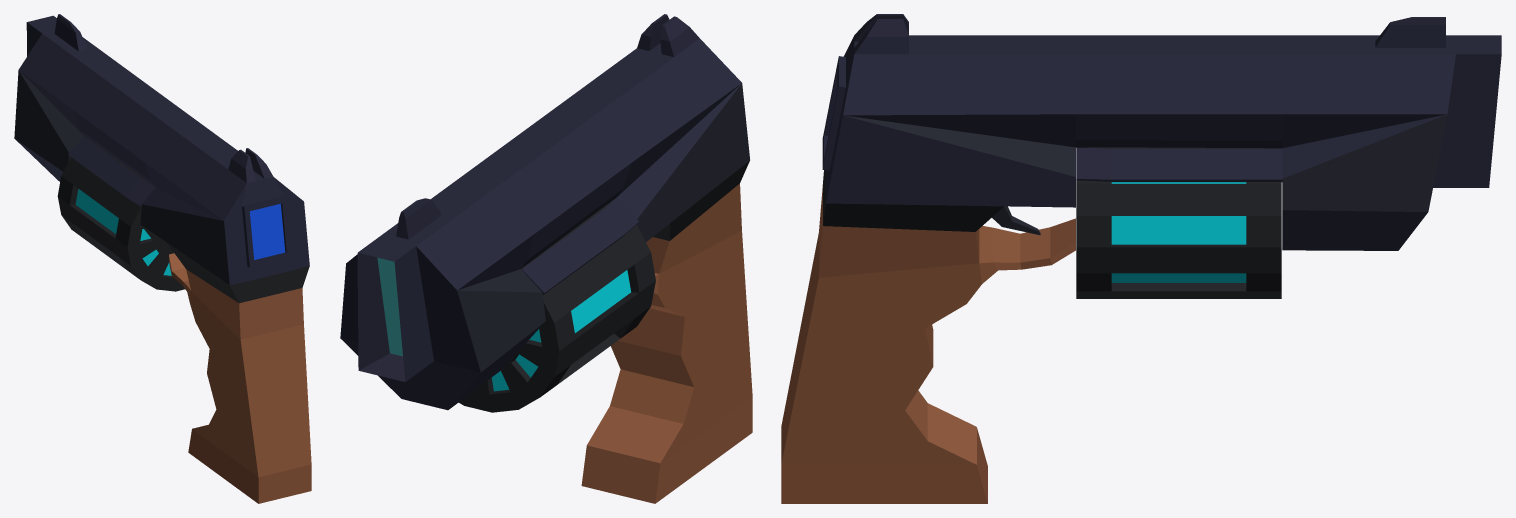
File: Pistol.fbx
3 renders of one model, left to right at view 1: azimuth 30°, elevation 25°; view 2: azimuth 150°, elevation 25°; view 3: azimuth 270°, elevation 25°, orthographic. The views are drawn at different scales.
Parts seen in each view (by area): view 1: Handle.001, Magazine.001, Barrel.002; view 2: Handle.001, Magazine.001, Barrel.002; view 3: Handle.001, Magazine.001, Barrel.002.
Part boxes in pixels (left/top/right/bottom): Handle.001: left=14, top=14, right=311, bottom=503; Magazine.001: left=57, top=157, right=184, bottom=291; Barrel.002: left=68, top=136, right=155, bottom=206; Handle.001: left=340, top=14, right=752, bottom=503; Magazine.001: left=459, top=225, right=655, bottom=412; Barrel.002: left=521, top=197, right=638, bottom=294; Handle.001: left=781, top=14, right=1501, bottom=503; Magazine.001: left=1076, top=180, right=1281, bottom=298; Barrel.002: left=1076, top=147, right=1282, bottom=182.
Bounding box in the file's own units: 18.5 × 67.19 × 48.14.
